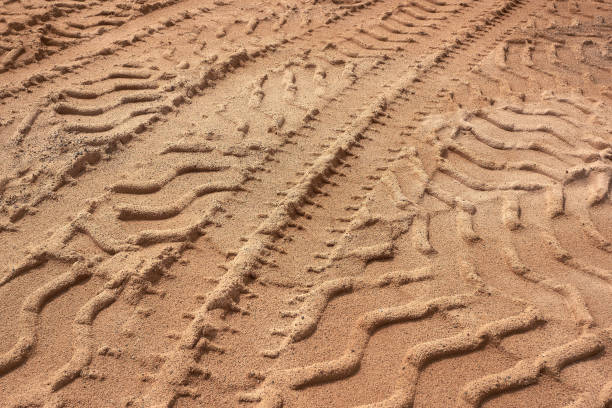vehicle_track: (0, 0, 611, 406), (2, 1, 386, 221), (364, 96, 609, 255), (256, 70, 418, 234), (156, 63, 361, 184), (2, 0, 246, 97), (0, 0, 178, 72)
